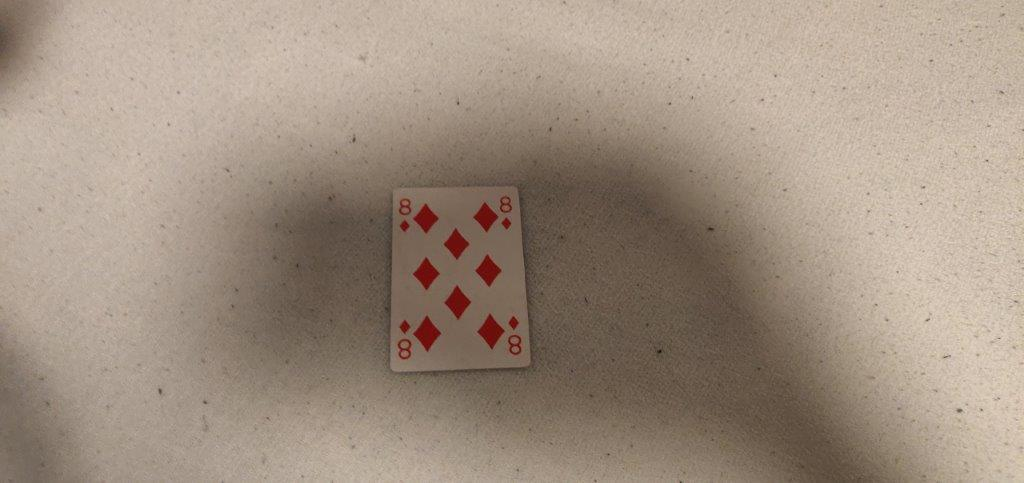8D: (393, 195, 416, 233), (496, 191, 517, 231)
